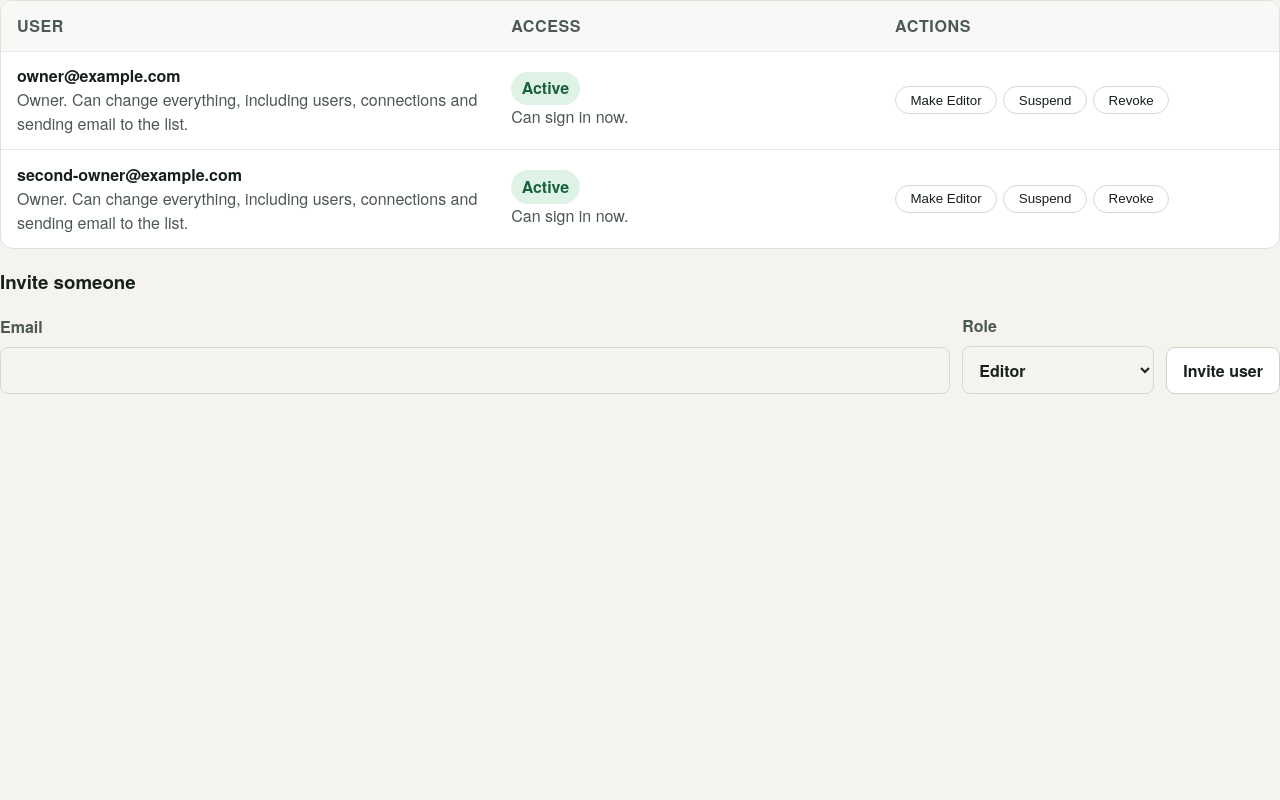
Scenario: Settings Users panel and its shared access mutation state › shows the plain reason for a refused change instead of a generic sentence
This screenshot has width=1280, height=800.
What coordinates should you click on to do the following:
click the 1st button "Suspend"
I would click on:
 (1045, 100)
Its box is left=1003, top=86, right=1087, bottom=114.
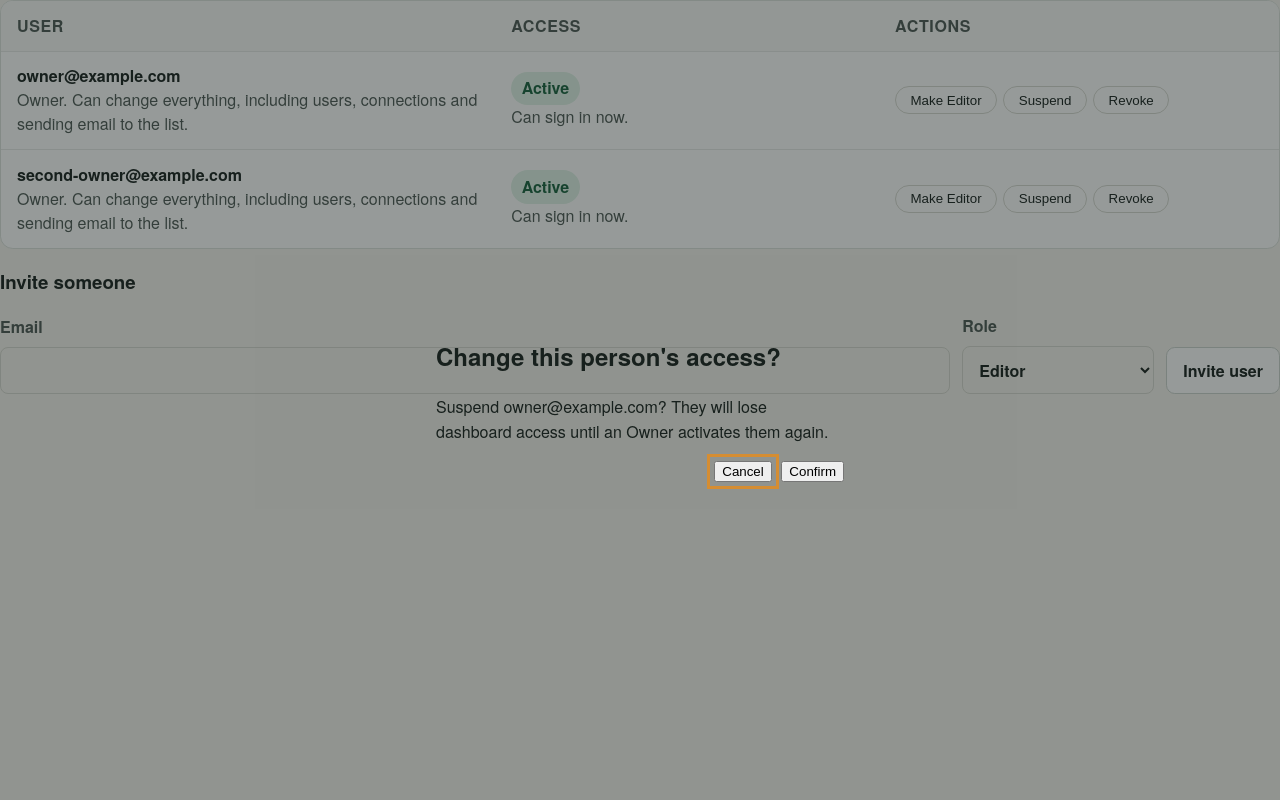
Check: the dialog with class "revoke-confirm-dialog" is shown, box left=416, top=298, right=864, bottom=502
What coordinates should you click on to do the following:
click the button "Confirm"
I would click on:
 (813, 471)
Its box is left=781, top=461, right=844, bottom=482.
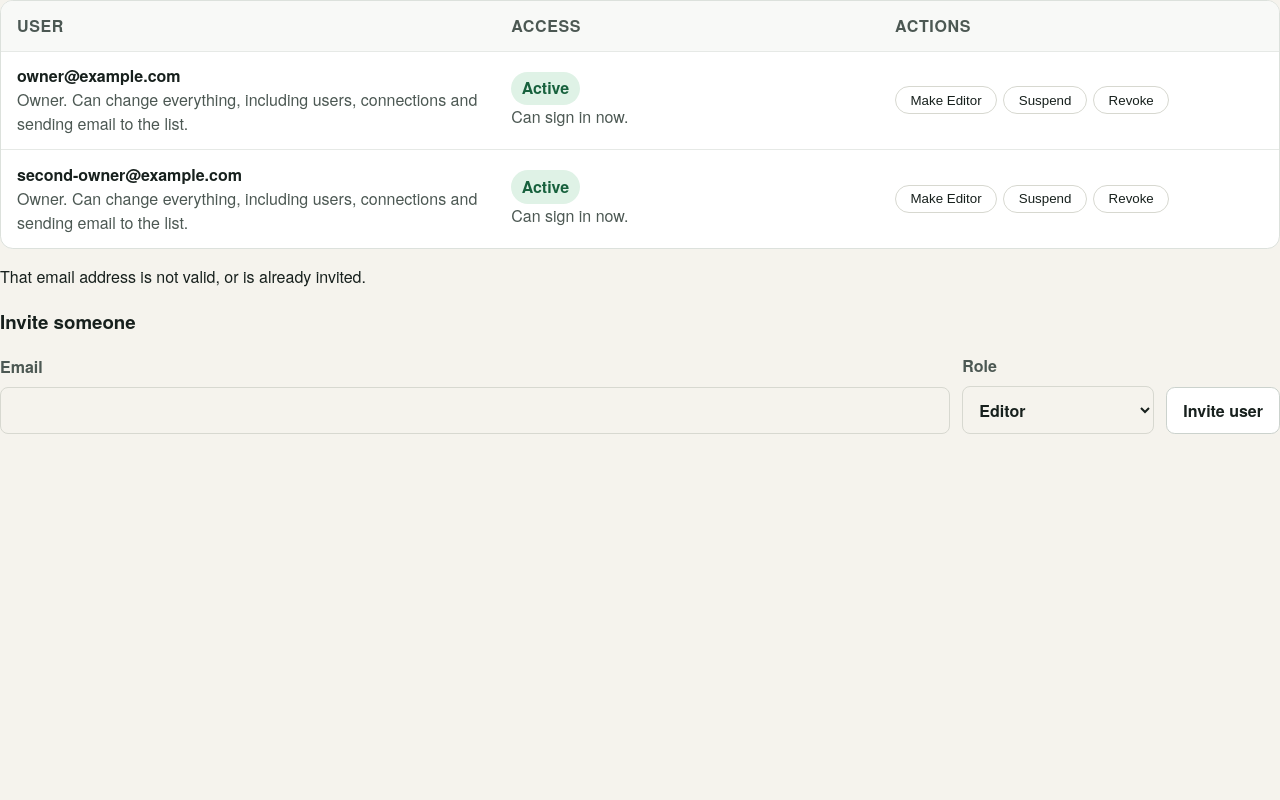
Check: the text "That email address is not valid, or is already invited." is shown, box left=0, top=265, right=366, bottom=288
